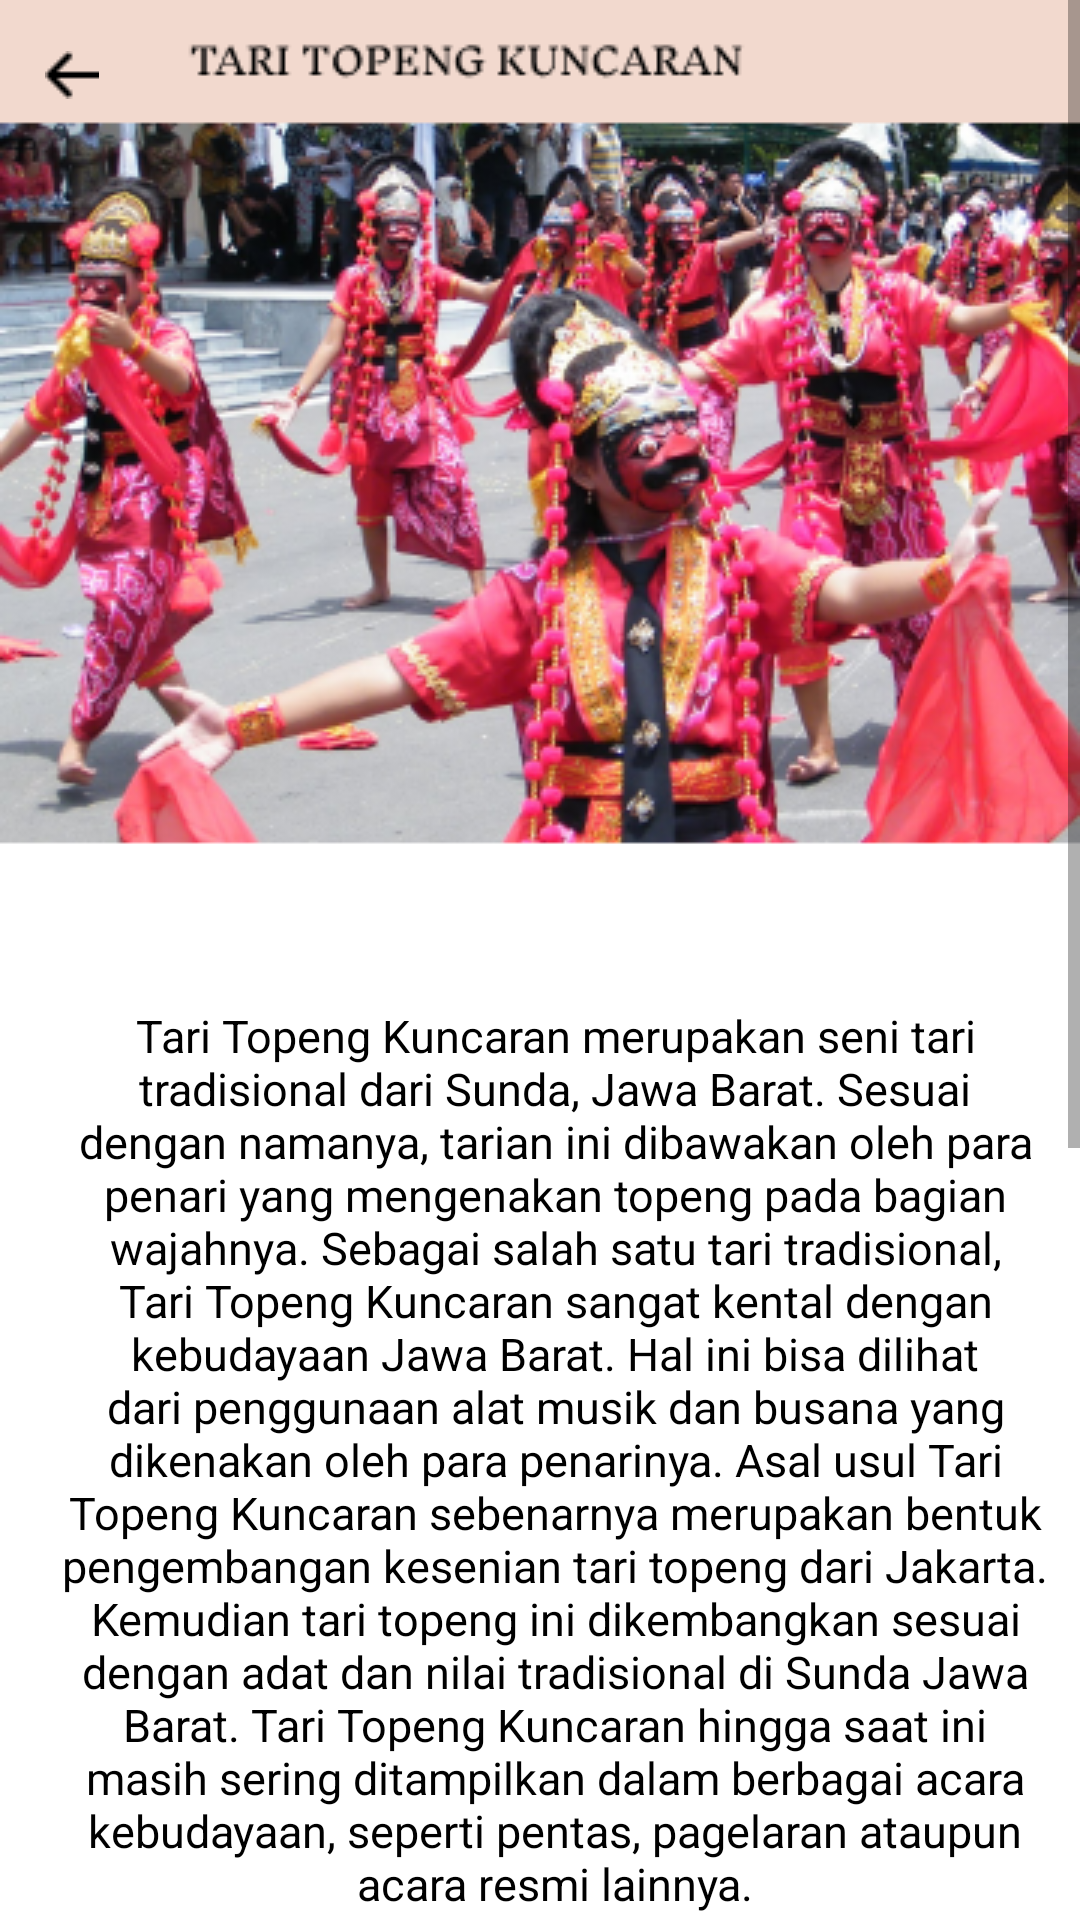

Named icons in this screenshot (1080x1920) and their centers, point (x, y):
back: point (72, 75)
